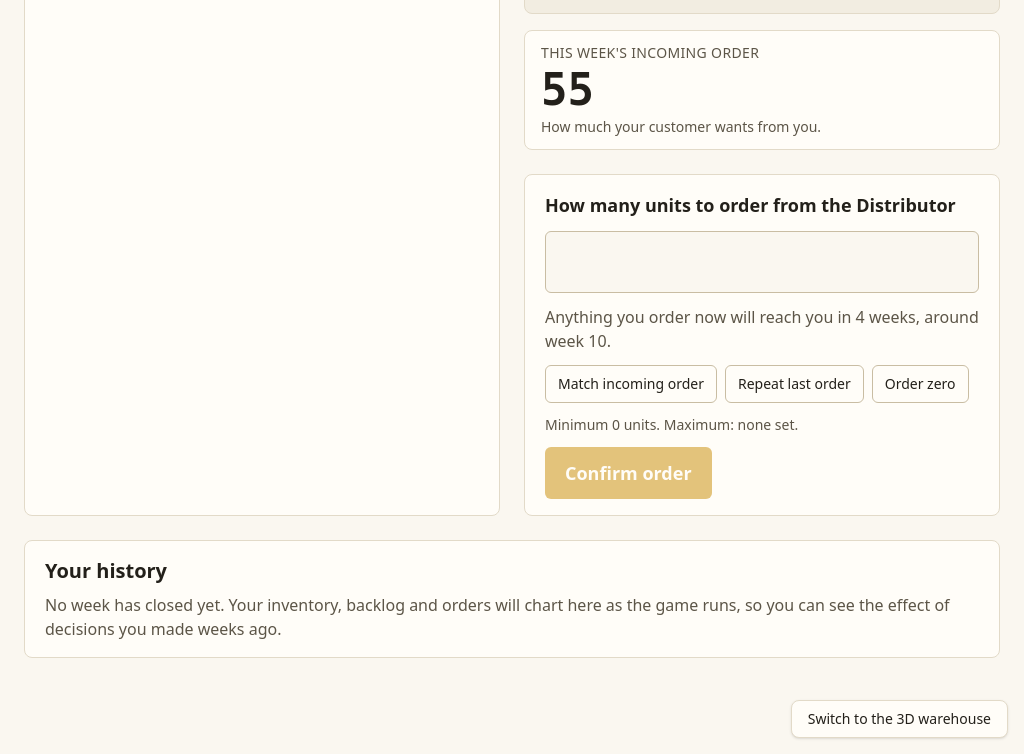
Test: CRITERION 12: the three quick-fill buttons fill the right numbers › "Match incoming order" fills this week’s incoming order
(page scrolled)
Click the button "Match incoming order".
click(631, 384)  # box [545,365,717,403]
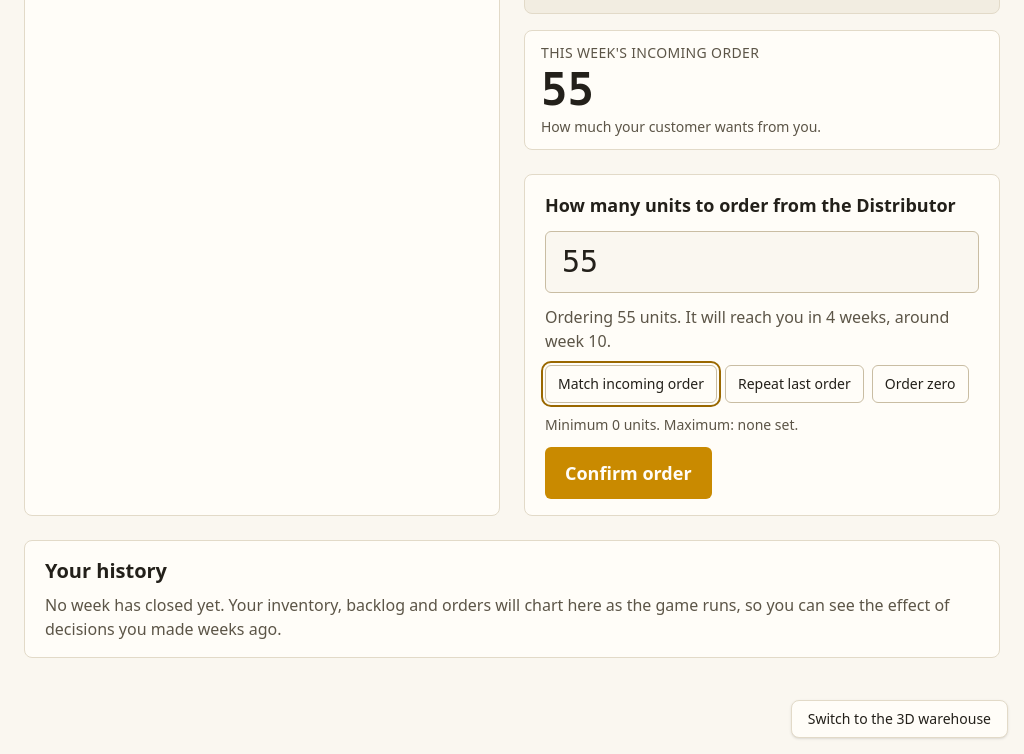
Now the number field labelled "How many units to order from the Distributor" holds "55", box [545,231,979,293]
